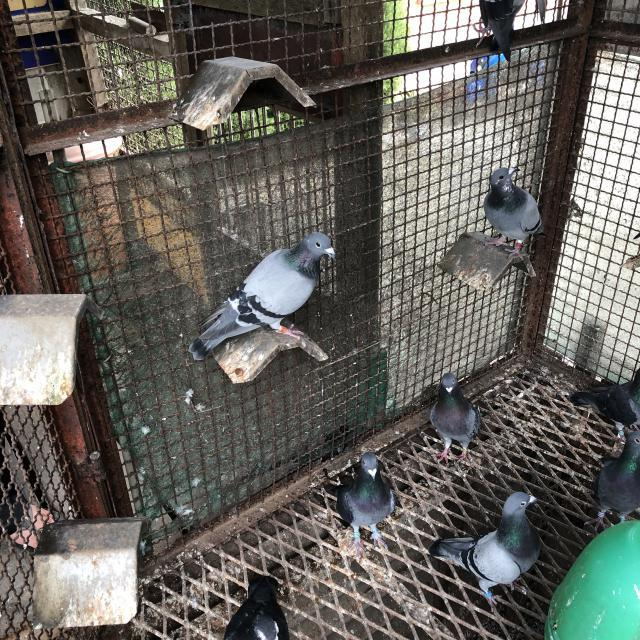bird: (186, 231, 335, 360), (428, 491, 540, 605), (336, 451, 395, 554), (486, 165, 548, 258), (430, 370, 482, 462)
